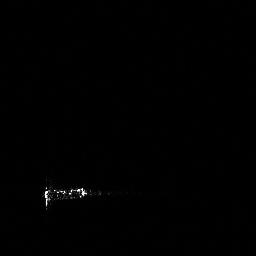ship: (38, 182, 95, 211)
